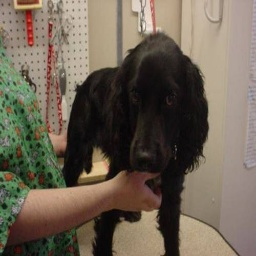dog: (56, 29, 209, 256)
